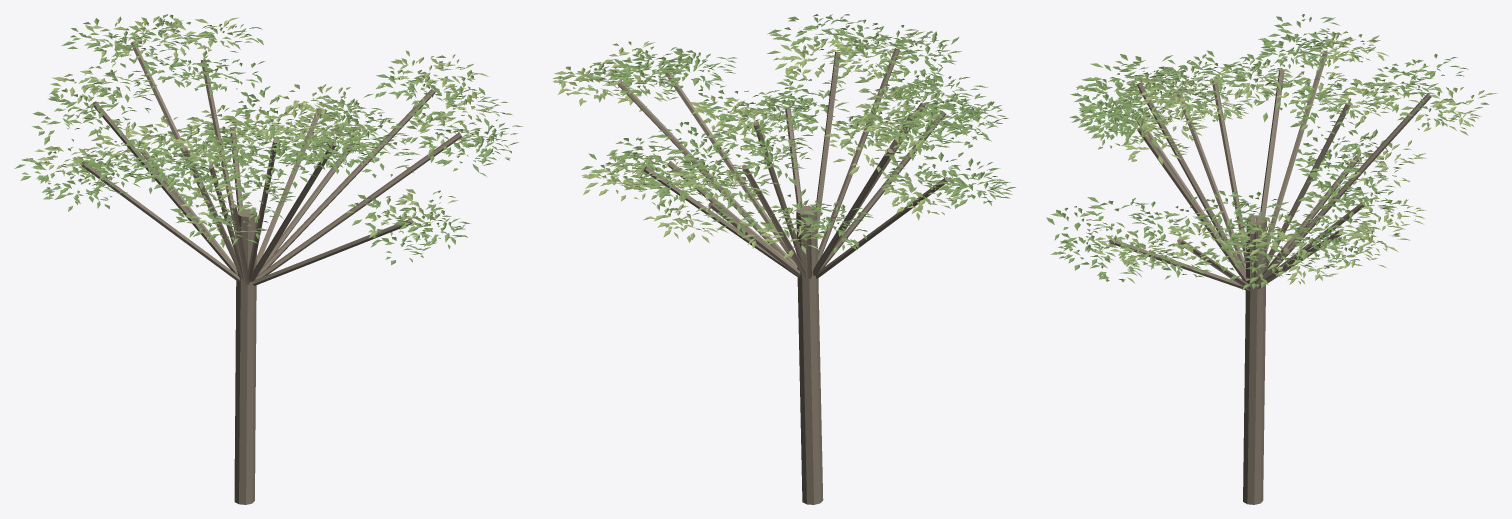
The model's file is dining-tree.glb.
The picture shows the model from 3 angles, left to right: view 1: azimuth 30°, elevation 25°; view 2: azimuth 150°, elevation 25°; view 3: azimuth 270°, elevation 25°; orthographic projection. The views are drawn at different scales.
Visible parts, largest first — view 1: dining-tree; view 2: dining-tree; view 3: dining-tree.
Part boxes in pixels (box(x1,y1,x2,y2)): dining-tree: box(14, 14, 522, 504); dining-tree: box(552, 14, 1015, 504); dining-tree: box(1046, 14, 1497, 504).
Size of the model in its own units: 11.07 by 9.85 by 9.56.
